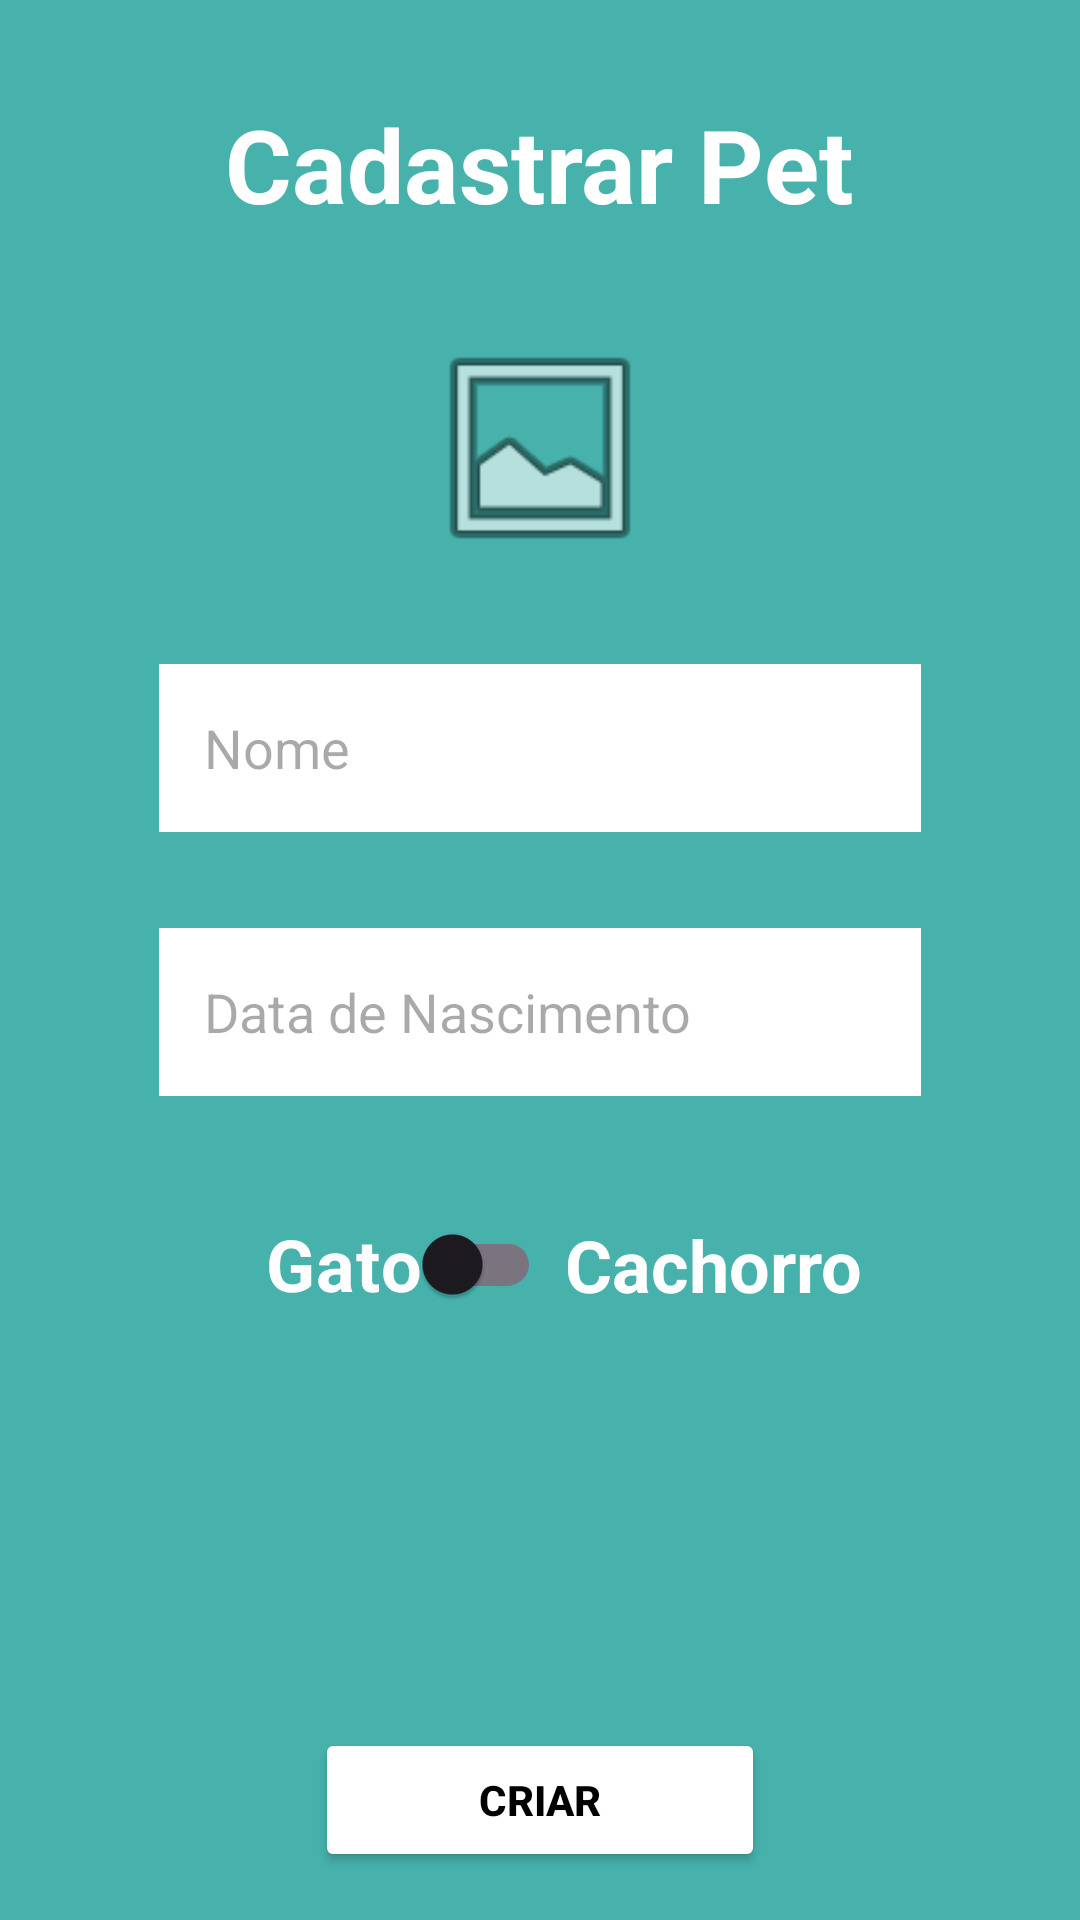

Screen size 1080×1920. Icon name, then its center in pixels as [x,y]:
gallery: [540,448]
